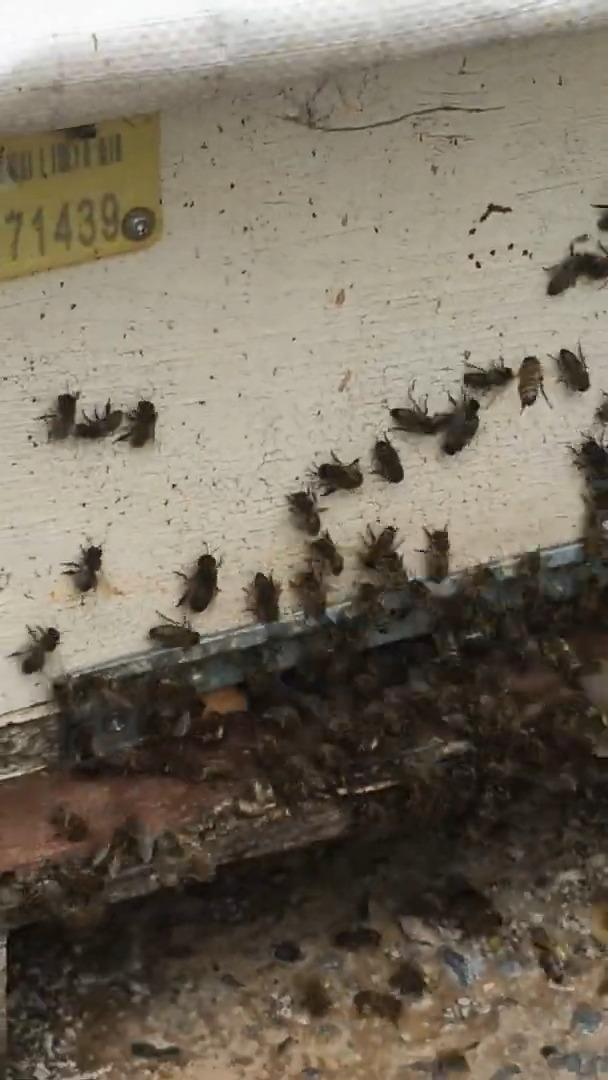worker-bee: (543, 234, 607, 296), (389, 388, 451, 435), (358, 524, 406, 584), (177, 552, 221, 613), (10, 626, 60, 674), (440, 396, 479, 455), (315, 452, 362, 496), (115, 399, 157, 448), (39, 391, 79, 440), (244, 571, 281, 623), (148, 612, 200, 649), (74, 399, 122, 439), (63, 545, 102, 593), (518, 357, 551, 411), (554, 343, 590, 392), (419, 525, 449, 582), (286, 489, 320, 536), (308, 531, 343, 576), (373, 433, 403, 483), (463, 361, 513, 391)
